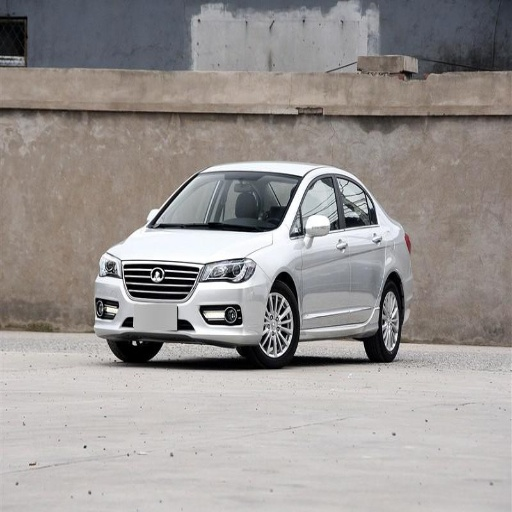front_bumper: (94, 257, 271, 345)
front_glass: (149, 172, 300, 230)
front_left_door: (300, 171, 350, 327)
